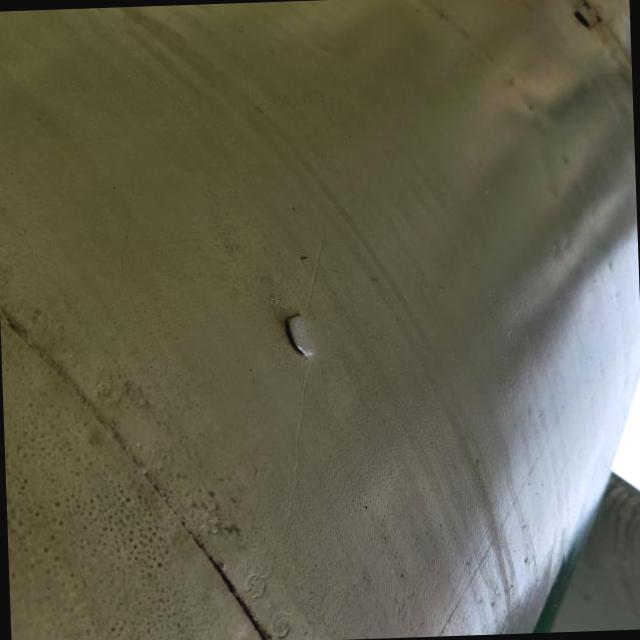crack: (268, 300, 336, 373)
